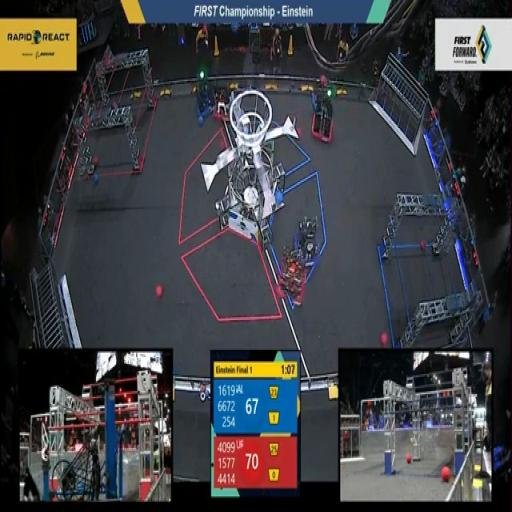robot: (275, 242, 309, 312), (306, 75, 338, 149), (292, 209, 322, 270), (214, 78, 242, 132), (194, 71, 216, 123)
